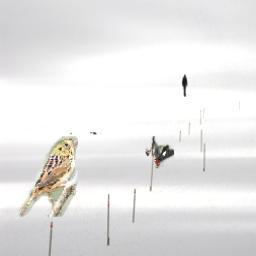Sparrow: (15, 136, 78, 217)
Woodpecker: (146, 137, 174, 169)
